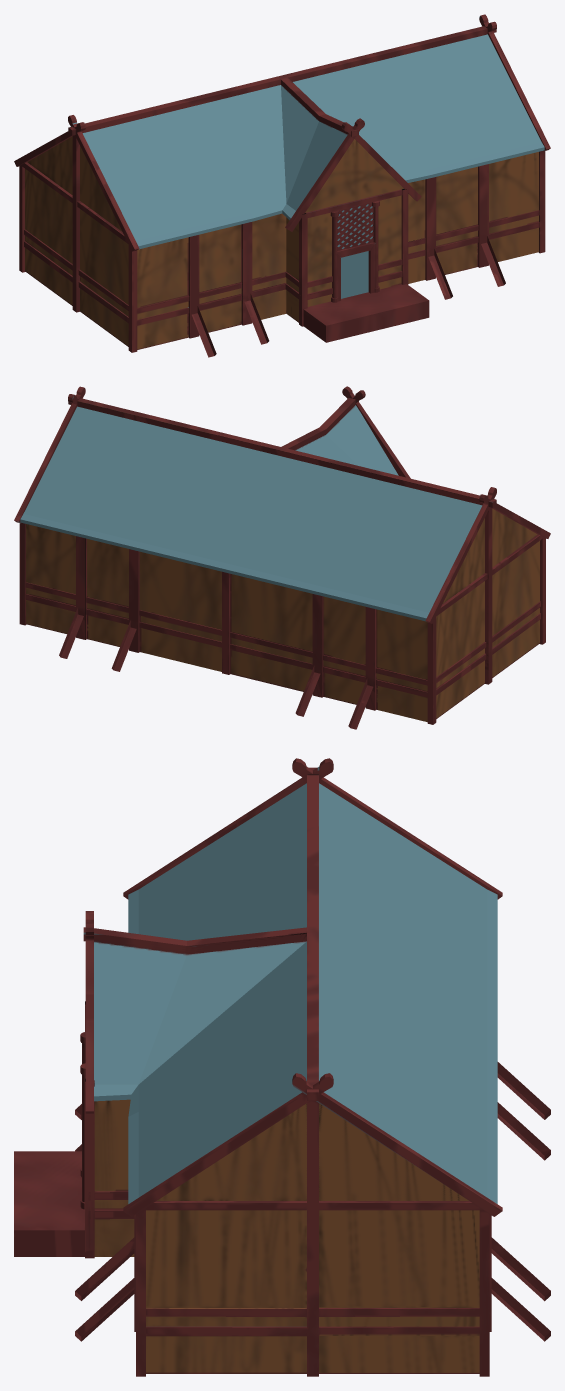
The model's file is AsgardTownHouse.glb.
3 renders of one model, top to bottom at view 1: azimuth 30°, elevation 25°; view 2: azimuth 150°, elevation 25°; view 3: azimuth 270°, elevation 25°, orthographic. The views are drawn at different scales.
Visible parts, largest first — view 1: TownHouse1; view 2: TownHouse1; view 3: TownHouse1.
Boxes of the visible parts, x1=… form: TownHouse1: x1=14, y1=14, x2=550, y2=357; TownHouse1: x1=14, y1=386, x2=550, y2=729; TownHouse1: x1=14, y1=758, x2=550, y2=1376.
Size of the model in its own units: 17.52 by 7.83 by 12.24.
1 material, 1 textured.
